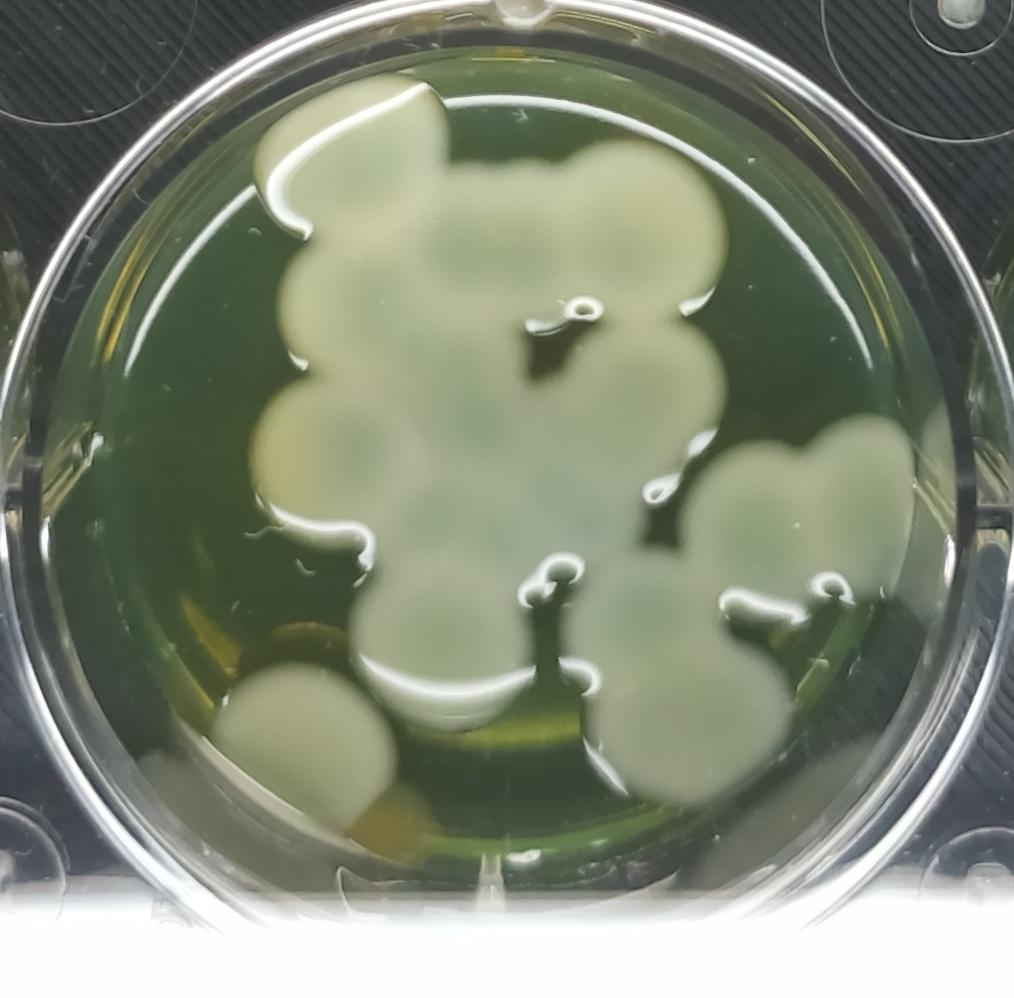valgino: (550, 545, 800, 801), (670, 402, 937, 611), (240, 65, 464, 253), (532, 307, 748, 493), (555, 127, 743, 337), (205, 642, 400, 843), (230, 365, 419, 555), (350, 559, 545, 742), (265, 218, 446, 385), (482, 420, 484, 420)
